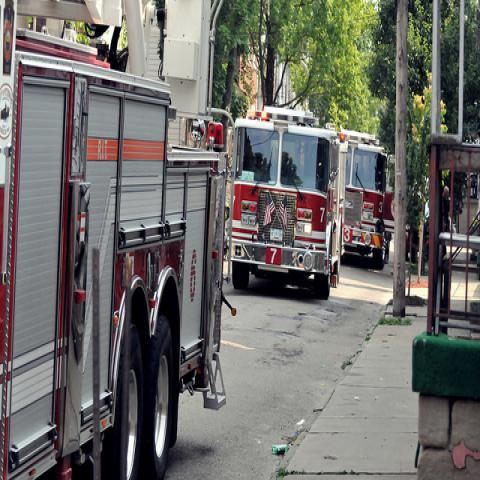truck: (0, 2, 238, 473), (231, 104, 347, 296), (340, 126, 389, 274), (385, 154, 396, 234)
